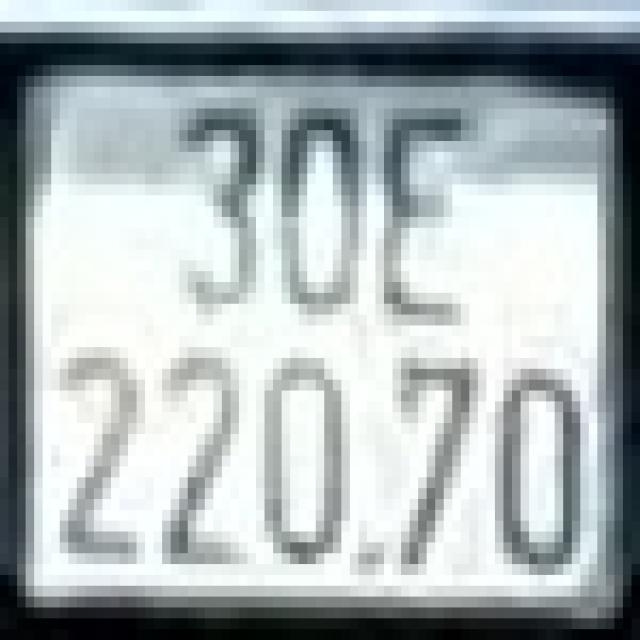0: (495, 358, 589, 575), (256, 347, 350, 564), (273, 98, 367, 314)
2: (51, 347, 145, 564), (153, 347, 240, 564)
3: (170, 98, 264, 314)
7: (392, 358, 478, 575)
E: (376, 97, 470, 326)
